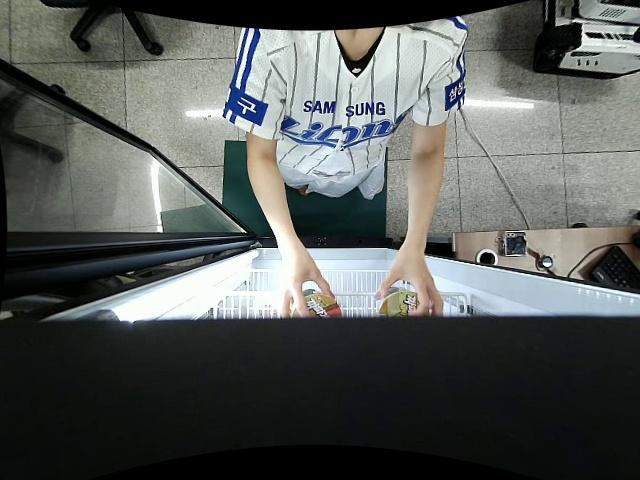00_hand: (373, 255, 444, 318), (277, 261, 335, 317)
